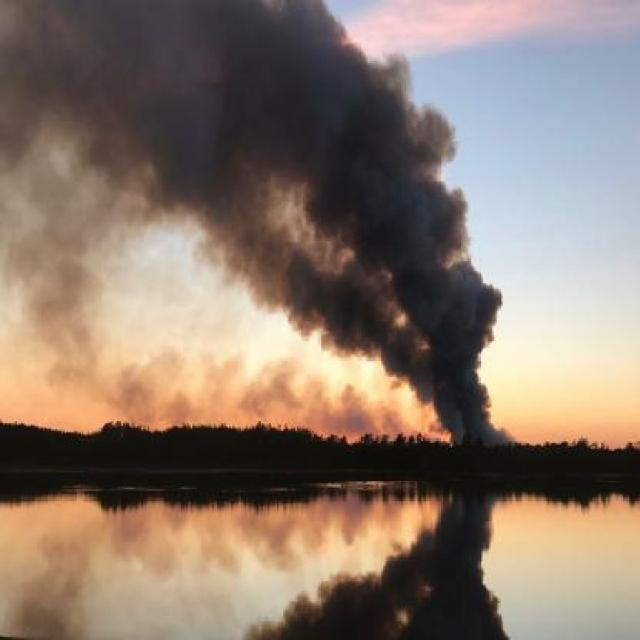Smoke: (0, 0, 507, 442)
